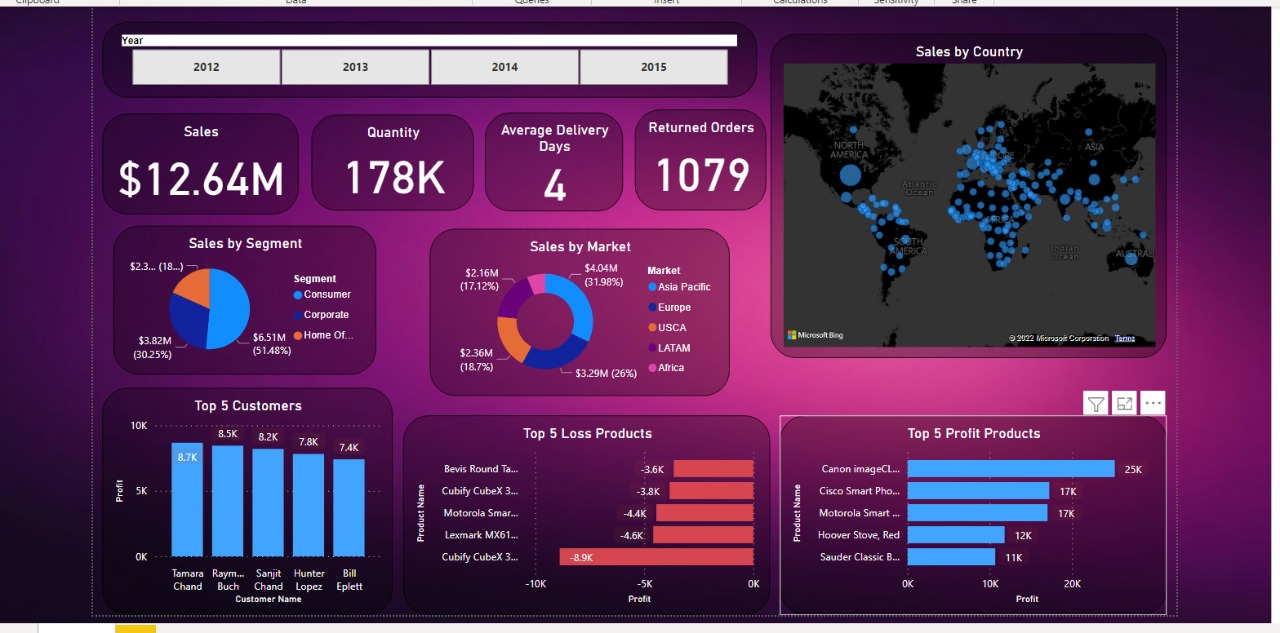

What the dashboard file says about the page in this screenshot:
{"tool":"powerbi","page":{"name":"Page 1","canvas":[1280,720],"ordinal":0},"visuals":[{"type":"card","title":"Sales","fields":{"Values":["Orders.Sales"]},"box":[11,126.4,232.1,119.5],"z":0},{"type":"card","title":"Quantity","fields":{"Values":["Orders.Quantity"]},"box":[258.2,127.7,192.3,114],"z":1000},{"type":"card","title":"Average Delivery Days","fields":{"Values":["Orders.Delivery Days"]},"box":[462.8,125,163.4,116.7],"z":2000},{"type":"slicer","fields":{"Values":["Orders.Year"]},"box":[11,17.9,773.2,89.3],"z":3000},{"type":"card","title":"Returned Orders","fields":{"Values":["Returns.Return Orders"]},"box":[640,122.2,155.2,119.5],"z":4000},{"type":"map","fields":{"Category":["Orders.Country"],"Size":["Orders.Sales"]},"box":[800.7,33,468.3,383.2],"z":5000},{"type":"clusteredBarChart","title":"Top 5 Profit Products","fields":{"Y":["Orders.Profit"],"Category":["Orders.Product Name"]},"box":[811.7,483.4,457.3,236.2],"z":6000},{"type":"clusteredBarChart","title":"Top 5 Loss Products","fields":{"Y":["Orders.Profit"],"Category":["Orders.Product Name"]},"box":[366.7,483.4,434,236.2],"z":7000},{"type":"pieChart","fields":{"Category":["Orders.Segment"],"Y":["Orders.Sales"]},"box":[24.7,259.6,310.4,175.8],"z":8000},{"type":"donutChart","fields":{"Y":["Orders.Sales"],"Category":["Orders.Market"]},"box":[398.3,262.3,354.3,197.8],"z":8001},{"type":"columnChart","title":"Top 5 Customers","fields":{"Category":["Orders.Customer Name"],"Y":["Orders.Profit"]},"box":[11,450.5,343.3,269.2],"z":8002}]}

Visuals, with their boxes in screenshot pixels (x1, y1, x2, y2):
"Sales" card: select_region(213, 122, 407, 222)
"Quantity" card: select_region(419, 124, 580, 219)
"Average Delivery Days" card: select_region(591, 121, 727, 219)
slicer - Orders.Year: select_region(213, 32, 859, 106)
"Returned Orders" card: select_region(739, 119, 869, 219)
map - Orders.Country x Orders.Sales: select_region(873, 44, 1265, 365)
"Top 5 Profit Products" clusteredBarChart: select_region(882, 421, 1265, 619)
"Top 5 Loss Products" clusteredBarChart: select_region(510, 421, 873, 619)
pieChart - Orders.Segment x Orders.Sales: select_region(224, 234, 484, 381)
donutChart - Orders.Sales x Orders.Market: select_region(537, 236, 833, 402)
"Top 5 Customers" columnChart: select_region(213, 394, 500, 619)
